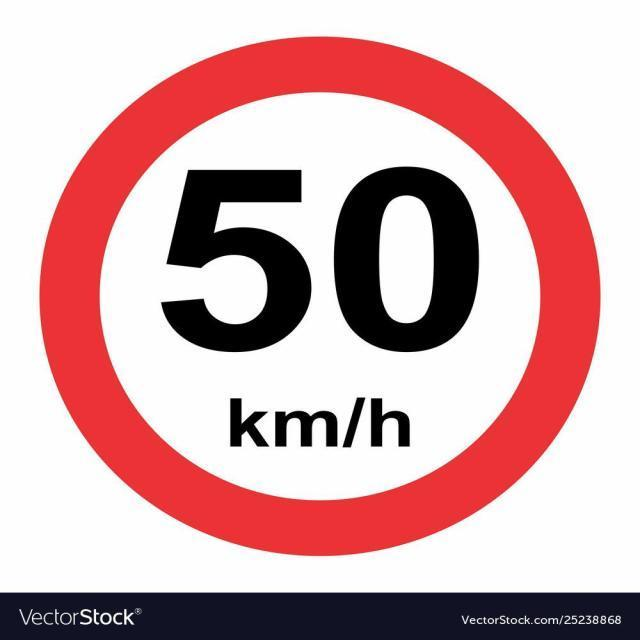speed limit 50: (42, 34, 601, 554)
